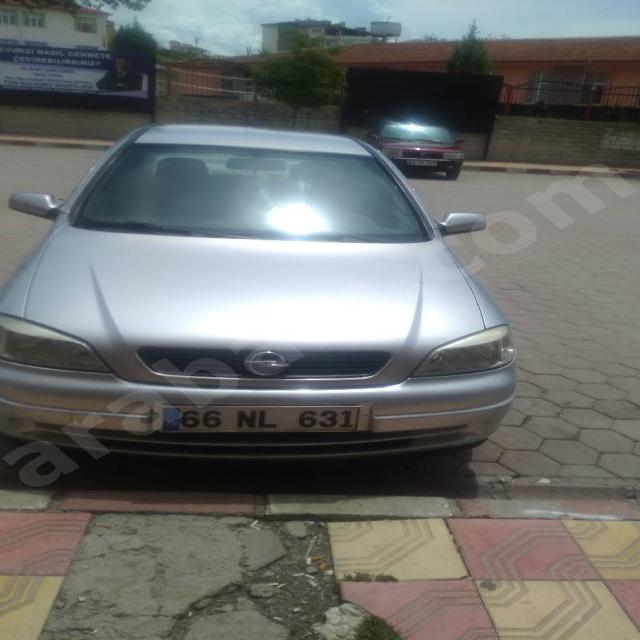license_plate: (160, 406, 360, 432)
